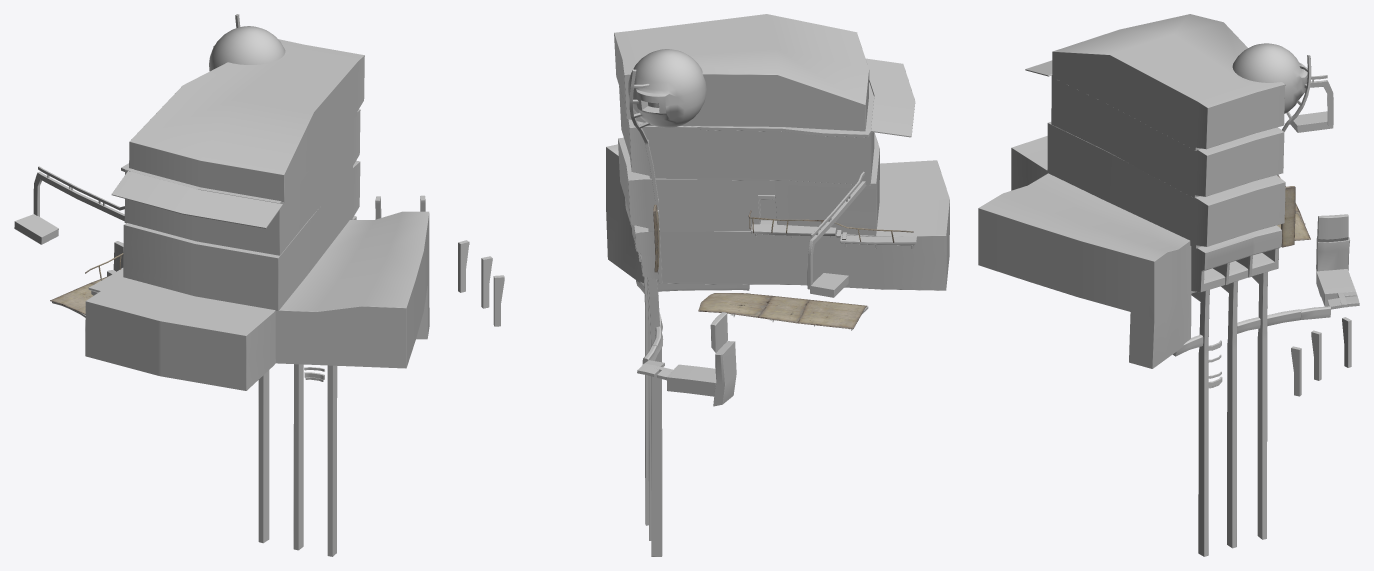
Rendered from SM_CastInSitu_02.fbx.
3 renders of one model, left to right at view 1: azimuth 30°, elevation 25°; view 2: azimuth 150°, elevation 25°; view 3: azimuth 270°, elevation 25°, orthographic. The views are drawn at different scales.
Parts seen in each view (by area): view 1: SM_CastInSitu_02; view 2: SM_CastInSitu_02; view 3: SM_CastInSitu_02.
Part boxes in pixels (bbox=[...]): SM_CastInSitu_02: bbox=[14, 14, 429, 556]; SM_CastInSitu_02: bbox=[458, 14, 949, 556]; SM_CastInSitu_02: bbox=[978, 14, 1359, 556].
Bounding box in the file's own units: 4082 × 4804 × 3425.
